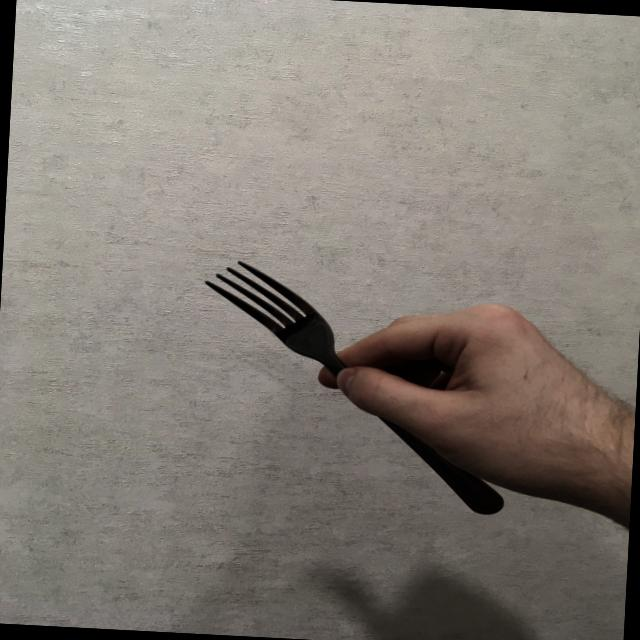fork: (192, 258, 520, 516)
